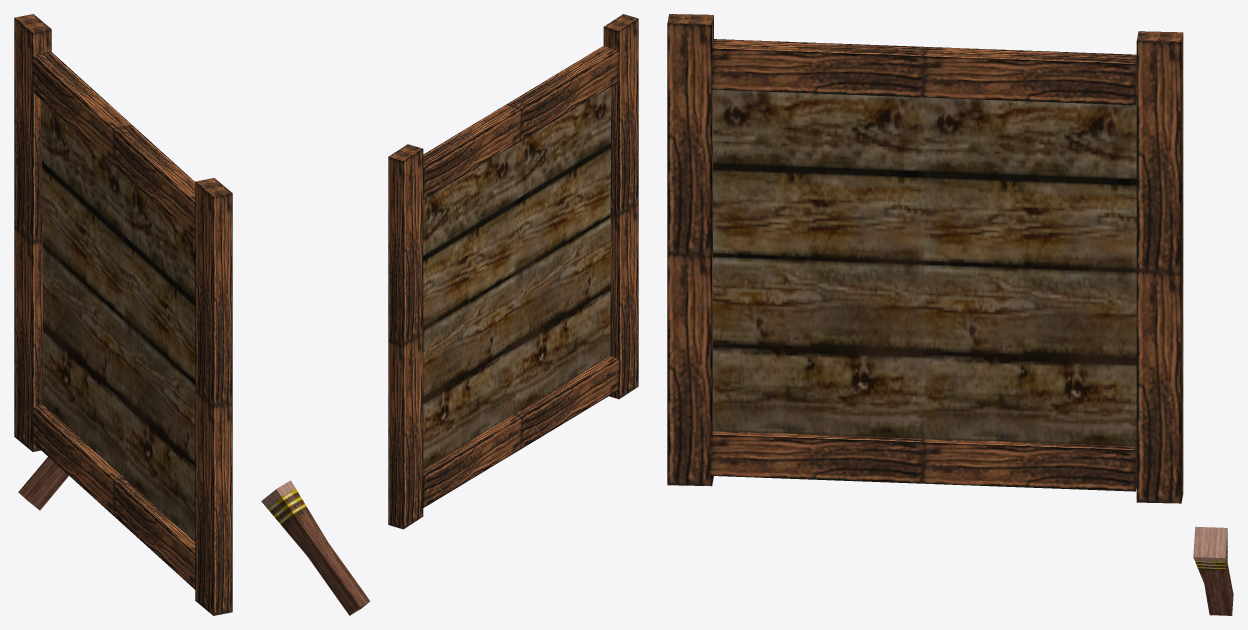
File: RM_LARGE_SLUCE_SWITCH.fbx
The picture shows the model from 3 angles, left to right: view 1: azimuth 30°, elevation 25°; view 2: azimuth 150°, elevation 25°; view 3: azimuth 270°, elevation 25°; orthographic projection. The views are drawn at different scales.
Visible parts, largest first — view 1: RM_LARGE_SLUCE_SWITCH; view 2: RM_LARGE_SLUCE_SWITCH; view 3: RM_LARGE_SLUCE_SWITCH.
Boxes of the visible parts, x1,y1,x2,y2 form: RM_LARGE_SLUCE_SWITCH: [14, 14, 232, 615]; RM_LARGE_SLUCE_SWITCH: [261, 14, 638, 615]; RM_LARGE_SLUCE_SWITCH: [667, 14, 1233, 615].
Size of the model in its own units: 8975 by 24726 by 22547.
3 materials, 3 textured.
